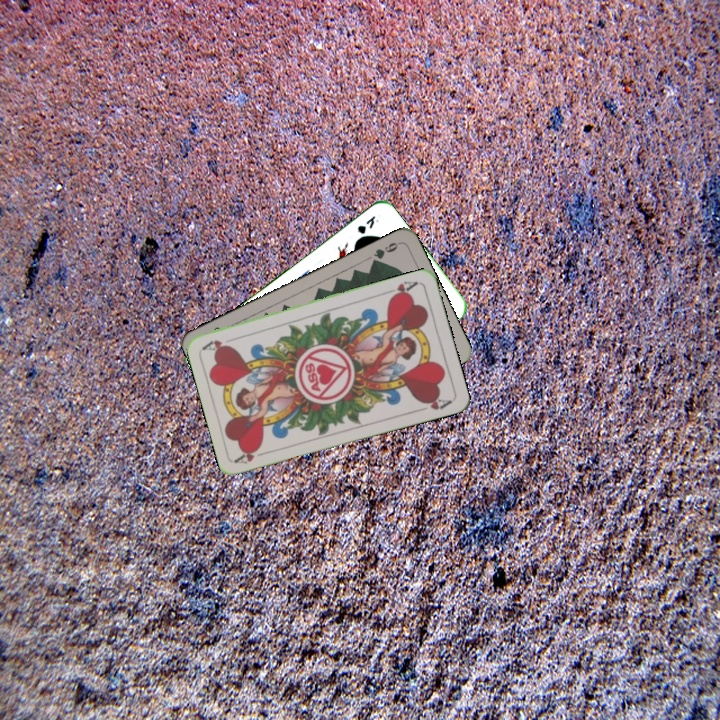G9: (368, 238, 403, 267)
GK: (353, 211, 381, 237)
HA: (381, 277, 421, 302), (232, 443, 272, 466)
